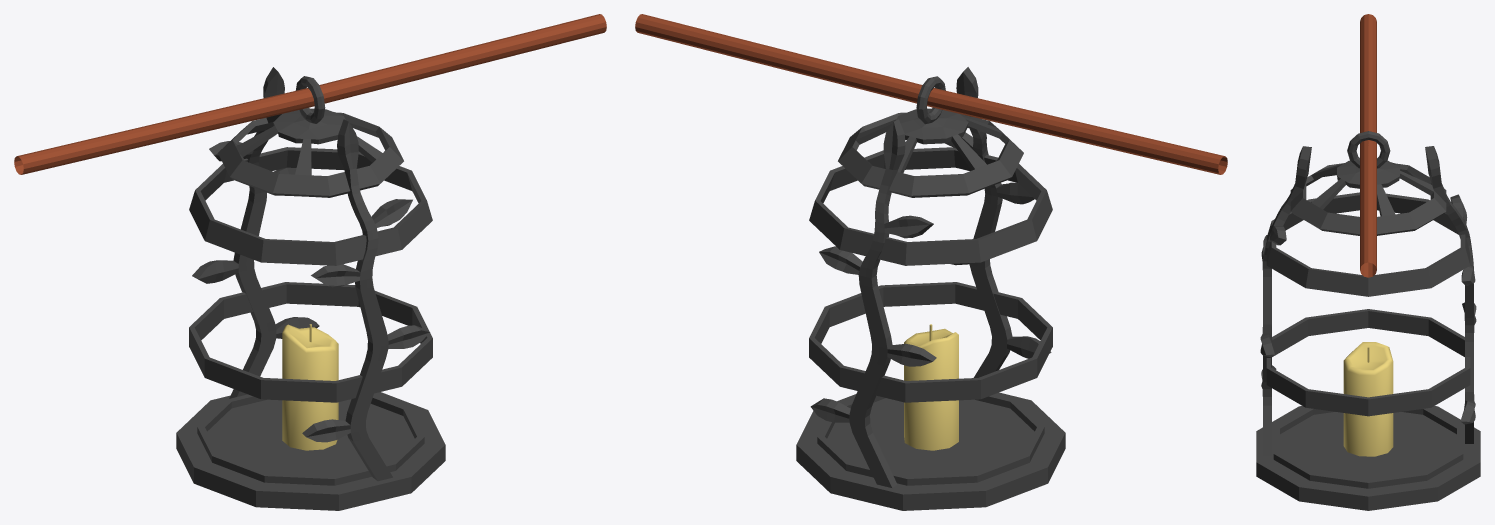
File: Lantern_w_candle_rope.FBX
3 renders of one model, left to right at view 1: azimuth 30°, elevation 25°; view 2: azimuth 150°, elevation 25°; view 3: azimuth 270°, elevation 25°, orthographic. The views are drawn at different scales.
Visible parts, largest first — view 1: lantern, rope, candle; view 2: lantern, rope, candle; view 3: lantern, candle, rope.
Boxes of the visible parts, x1,y1,x2,y2 form: lantern: [176, 67, 445, 510]; rope: [14, 14, 606, 174]; candle: [282, 324, 338, 450]; lantern: [796, 67, 1065, 510]; rope: [635, 14, 1227, 174]; candle: [904, 324, 958, 450]; lantern: [1256, 131, 1480, 510]; candle: [1343, 342, 1393, 456]; rope: [1360, 14, 1376, 277].
Bounding box in the file's own units: 21.55 × 13.34 × 8.24.
